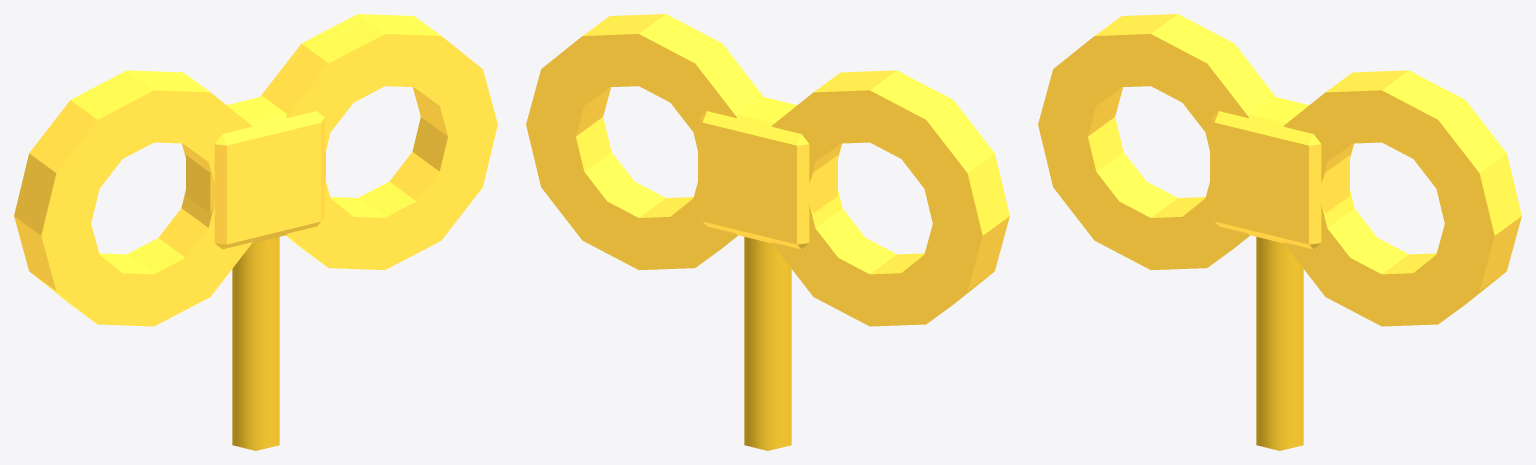
Rendered from castle-key.glb.
The picture shows the model from 3 angles, left to right: view 1: azimuth 30°, elevation 25°; view 2: azimuth 150°, elevation 25°; view 3: azimuth 330°, elevation 25°; orthographic projection.
Visible parts, largest first — view 1: castle-key; view 2: castle-key; view 3: castle-key.
Part boxes in pixels (left/top/right/bottom): castle-key: left=14, top=14, right=497, bottom=450; castle-key: left=526, top=14, right=1009, bottom=450; castle-key: left=1038, top=14, right=1521, bottom=450.
Size of the model in its own units: 8.7 by 7.05 by 1.2.
